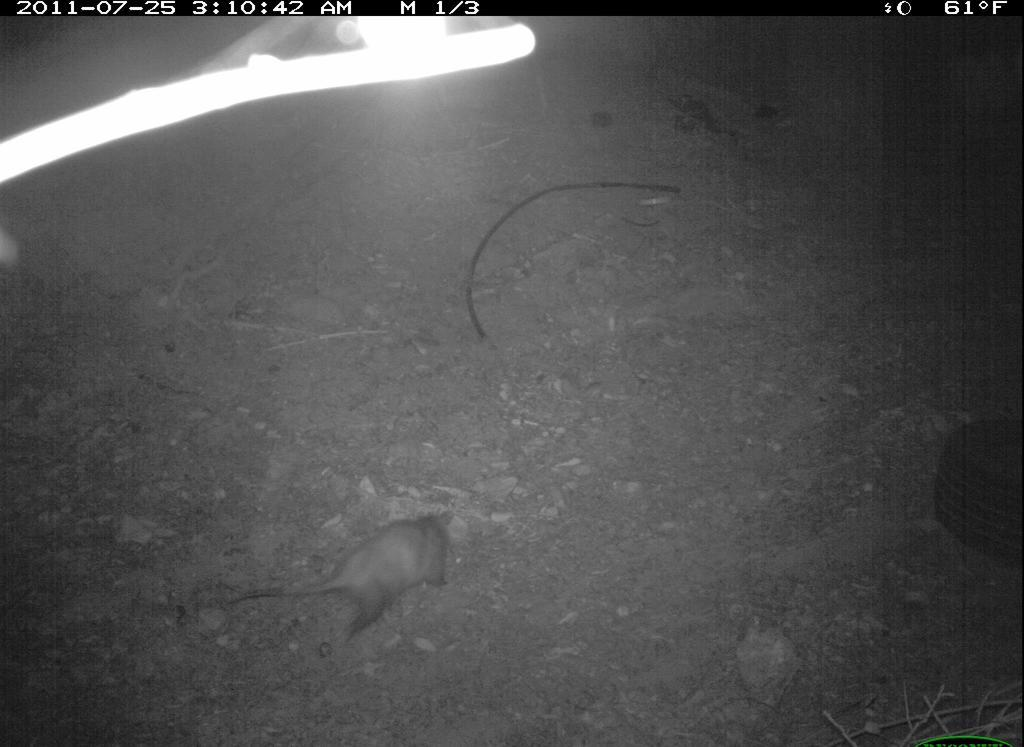opossum: (226, 500, 482, 651)
